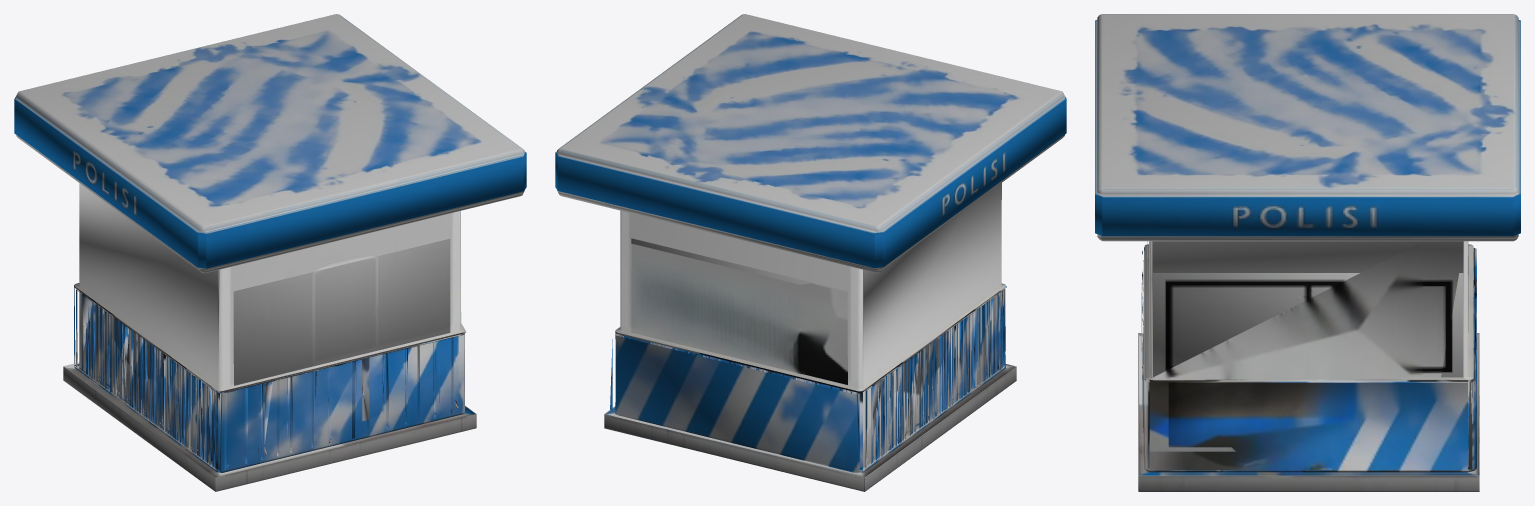
File: pos_polisi.glb
3 views of the same model, side by side, from view 1: azimuth 30°, elevation 25°; view 2: azimuth 150°, elevation 25°; view 3: azimuth 270°, elevation 25° (orthographic). The views are drawn at different scales.
Visible parts, largest first — view 1: tripo_node_42241b40; view 2: tripo_node_42241b40; view 3: tripo_node_42241b40.
Part boxes in pixels (x1=…): tripo_node_42241b40: x1=14, y1=14, x2=526, y2=491; tripo_node_42241b40: x1=555, y1=14, x2=1066, y2=491; tripo_node_42241b40: x1=1095, y1=14, x2=1520, y2=491.
Size of the model in its own units: 1 by 0.8289 by 1.
Materials: 1 (1 with a texture image).
